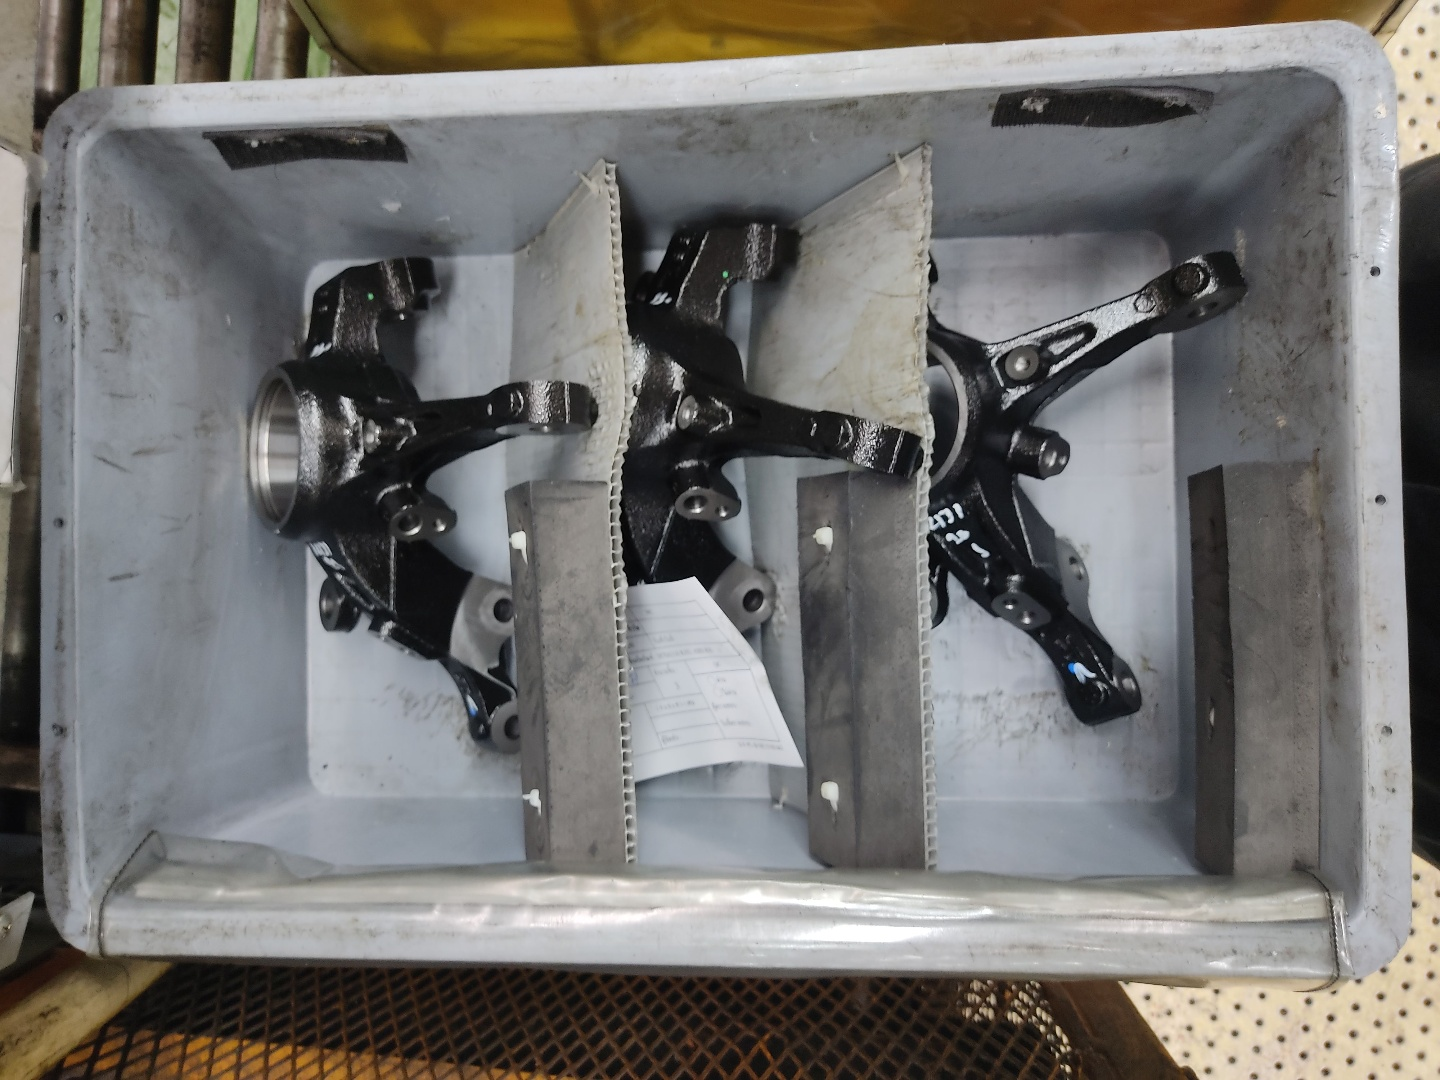abs-rh: (588, 202, 925, 788), (239, 245, 603, 766), (917, 210, 1251, 752)
